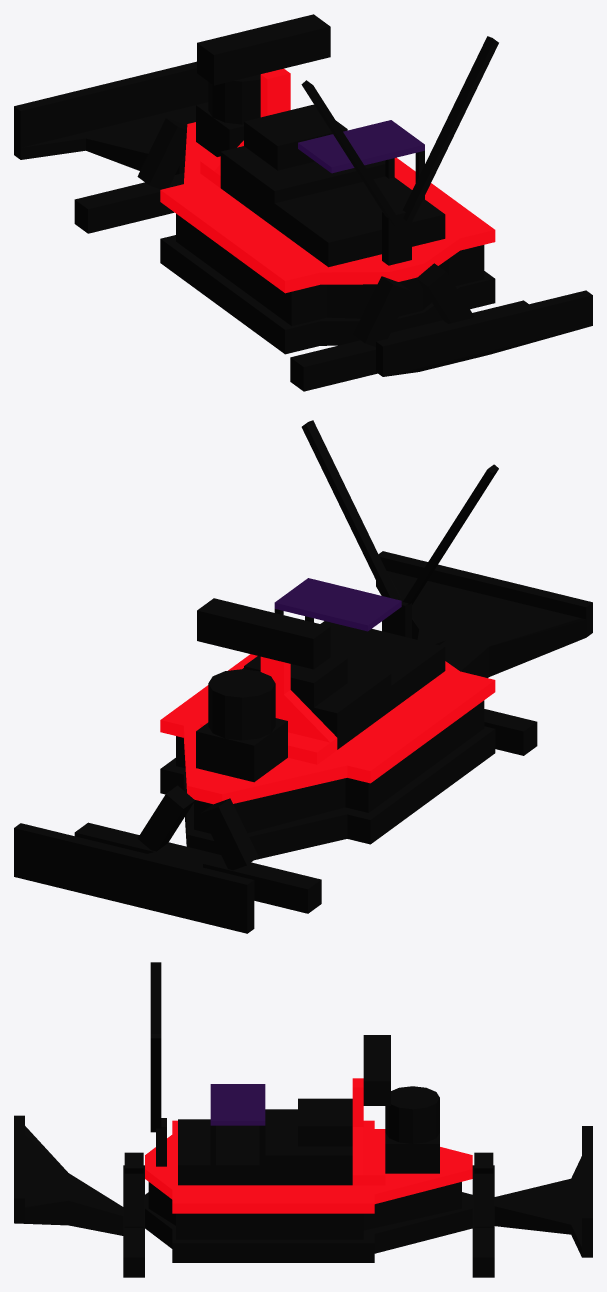
The model's file is RedCar.dae.
The picture shows the model from 3 angles, top to bottom: view 1: azimuth 30°, elevation 25°; view 2: azimuth 150°, elevation 25°; view 3: azimuth 270°, elevation 25°; orthographic projection. The views are drawn at different scales.
Parts seen in each view (by area): view 1: Top Base Plate, VESC, Extension, Middle Plate, Bottom Base Plate, Camera, Cube, Bottom Piece, Base, Top Piece, Back Axle, Cooler (+11 smaller); view 2: Top Base Plate, Bottom Piece, Extension, Bottom Base Plate, Middle Plate, Camera, VESC, Front Axle, Circle, Powerboard, Top Piece, Cube (+12 smaller); view 3: Top Base Plate, Bottom Base Plate, Middle Plate, Bottom Piece, VESC, Cube, Base, Circle, Cooler, Powerboard, Camera, Cube.001 (+14 smaller).
Part boxes in pixels (box(x1,y1,x2,y2)): Top Base Plate: box(160, 122, 495, 293); VESC: box(274, 176, 445, 267); Extension: box(14, 61, 208, 147); Middle Plate: box(176, 213, 484, 325); Bottom Base Plate: box(160, 235, 495, 354); Camera: box(197, 14, 330, 85); Cube: box(220, 146, 385, 227); Bottom Piece: box(376, 307, 592, 376); Base: box(14, 105, 195, 174); Top Piece: box(376, 290, 592, 358); Back Axle: box(290, 300, 528, 391); Cooler: box(244, 104, 347, 170); Top Base Plate: box(160, 654, 495, 804); Bottom Piece: box(376, 571, 592, 677); Extension: box(14, 823, 254, 921); Bottom Base Plate: box(160, 726, 495, 859); Middle Plate: box(176, 700, 484, 833); Camera: box(197, 598, 330, 669); VESC: box(320, 621, 445, 709); Front Axle: box(74, 822, 321, 913); Circle: box(208, 669, 275, 740); Powerboard: box(274, 578, 401, 631); Top Piece: box(378, 551, 592, 619); Cube: box(242, 663, 391, 749); Top Base Plate: box(145, 1120, 472, 1213); Bottom Base Plate: box(145, 1192, 472, 1262); Middle Plate: box(148, 1182, 461, 1239); Bottom Piece: box(14, 1126, 123, 1235); VESC: box(178, 1119, 265, 1185); Cube: box(265, 1109, 352, 1185); Base: box(494, 1156, 592, 1257); Circle: box(385, 1086, 439, 1143); Cooler: box(298, 1098, 352, 1146); Powerboard: box(210, 1084, 265, 1125); Camera: box(363, 1035, 390, 1105); Cube.001: box(385, 1133, 439, 1173).
Bounding box in the file's own units: 0.2 × 0.53 × 0.2356.
